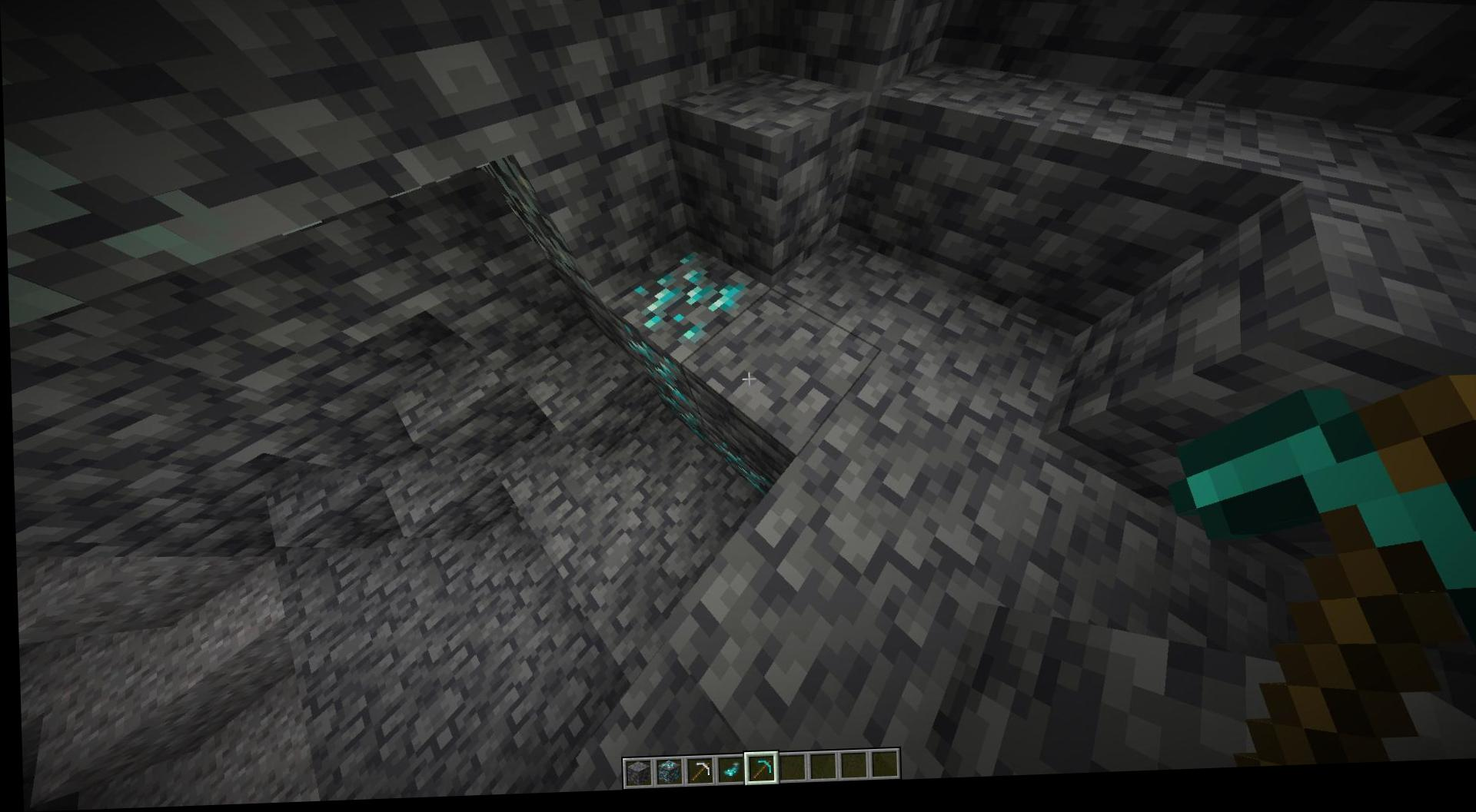diamond ore: (624, 255, 755, 355)
